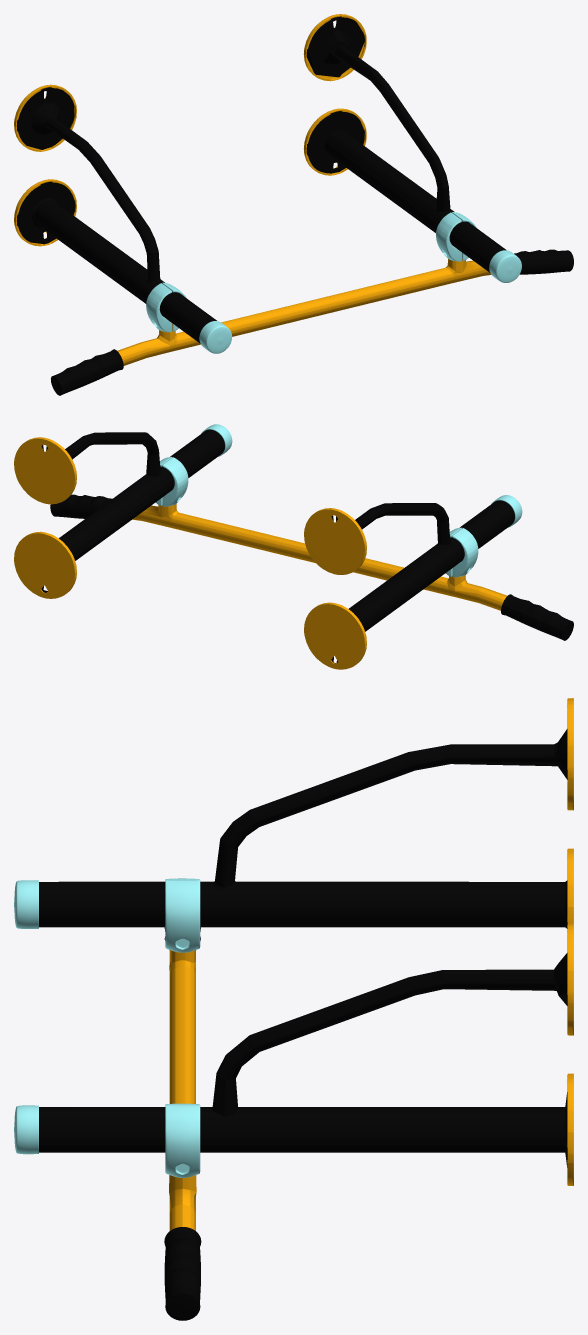
Rendered from barraMulti.obj.
The picture shows the model from 3 angles, top to bottom: view 1: azimuth 30°, elevation 25°; view 2: azimuth 150°, elevation 25°; view 3: azimuth 270°, elevation 25°; orthographic projection. The views are drawn at different scales.
Visible parts, largest first — view 1: HorizontalBar1:dominadas HorizontalBar1:bracket_left, HorizontalBar1:bracket_left001 HorizontalBar1:dominadas, HorizontalBar1:dominadas HorizontalBar1:crossbar, HorizontalBar1:dominadas HorizontalBar1:grip_left, HorizontalBar1:dominadas HorizontalBar1:grip_right, HorizontalBar1:dominadas HorizontalBar1:clamp_001, HorizontalBar1:dominadas HorizontalBar1:clamp_002, HorizontalBar1:dominadas HorizontalBar1:cap_002, HorizontalBar1:dominadas HorizontalBar1:lid_left, HorizontalBar1:dominadas HorizontalBar1:pad_004, HorizontalBar1:dominadas HorizontalBar1:pad_002, HorizontalBar1:dominadas HorizontalBar1:pad_003 (+1 smaller); view 2: HorizontalBar1:dominadas HorizontalBar1:bracket_left, HorizontalBar1:bracket_left001 HorizontalBar1:dominadas, HorizontalBar1:dominadas HorizontalBar1:crossbar, HorizontalBar1:dominadas HorizontalBar1:pad_001, HorizontalBar1:dominadas HorizontalBar1:pad_004, HorizontalBar1:dominadas HorizontalBar1:pad_003, HorizontalBar1:dominadas HorizontalBar1:pad_002, HorizontalBar1:dominadas HorizontalBar1:grip_left, HorizontalBar1:dominadas HorizontalBar1:grip_right, HorizontalBar1:dominadas HorizontalBar1:clamp_001, HorizontalBar1:dominadas HorizontalBar1:clamp_002; view 3: HorizontalBar1:dominadas HorizontalBar1:bracket_left, HorizontalBar1:bracket_left001 HorizontalBar1:dominadas, HorizontalBar1:dominadas HorizontalBar1:crossbar, HorizontalBar1:dominadas HorizontalBar1:grip_right, HorizontalBar1:dominadas HorizontalBar1:clamp_001, HorizontalBar1:dominadas HorizontalBar1:clamp_002, HorizontalBar1:dominadas HorizontalBar1:cap_002, HorizontalBar1:dominadas HorizontalBar1:lid_left, HorizontalBar1:dominadas HorizontalBar1:pad_003, HorizontalBar1:dominadas HorizontalBar1:pad_002, HorizontalBar1:dominadas HorizontalBar1:pad_004.
Part boxes in pixels (left/top/right/bottom): HorizontalBar1:dominadas HorizontalBar1:bracket_left: left=16, top=87, right=216, bottom=343; HorizontalBar1:bracket_left001 HorizontalBar1:dominadas: left=306, top=16, right=506, bottom=272; HorizontalBar1:dominadas HorizontalBar1:crossbar: left=117, top=259, right=491, bottom=365; HorizontalBar1:dominadas HorizontalBar1:grip_left: left=51, top=349, right=123, bottom=395; HorizontalBar1:dominadas HorizontalBar1:grip_right: left=514, top=249, right=573, bottom=274; HorizontalBar1:dominadas HorizontalBar1:clamp_001: left=146, top=282, right=186, bottom=332; HorizontalBar1:dominadas HorizontalBar1:clamp_002: left=436, top=212, right=476, bottom=261; HorizontalBar1:dominadas HorizontalBar1:cap_002: left=489, top=250, right=521, bottom=282; HorizontalBar1:dominadas HorizontalBar1:lid_left: left=199, top=321, right=232, bottom=353; HorizontalBar1:dominadas HorizontalBar1:pad_004: left=303, top=14, right=366, bottom=81; HorizontalBar1:dominadas HorizontalBar1:pad_002: left=14, top=84, right=76, bottom=151; HorizontalBar1:dominadas HorizontalBar1:pad_003: left=303, top=108, right=366, bottom=175; HorizontalBar1:dominadas HorizontalBar1:bracket_left: left=331, top=500, right=514, bottom=663; HorizontalBar1:bracket_left001 HorizontalBar1:dominadas: left=41, top=429, right=224, bottom=592; HorizontalBar1:dominadas HorizontalBar1:crossbar: left=132, top=504, right=507, bottom=610; HorizontalBar1:dominadas HorizontalBar1:pad_001: left=304, top=602, right=366, bottom=669; HorizontalBar1:dominadas HorizontalBar1:pad_004: left=14, top=437, right=76, bottom=504; HorizontalBar1:dominadas HorizontalBar1:pad_003: left=14, top=531, right=76, bottom=598; HorizontalBar1:dominadas HorizontalBar1:pad_002: left=304, top=508, right=366, bottom=574; HorizontalBar1:dominadas HorizontalBar1:grip_left: left=501, top=594, right=573, bottom=640; HorizontalBar1:dominadas HorizontalBar1:grip_right: left=50, top=494, right=112, bottom=518; HorizontalBar1:dominadas HorizontalBar1:clamp_001: left=445, top=527, right=478, bottom=577; HorizontalBar1:dominadas HorizontalBar1:clamp_002: left=156, top=456, right=188, bottom=506; HorizontalBar1:dominadas HorizontalBar1:bracket_left: left=39, top=729, right=567, bottom=928; HorizontalBar1:bracket_left001 HorizontalBar1:dominadas: left=39, top=953, right=567, bottom=1167; HorizontalBar1:dominadas HorizontalBar1:crossbar: left=169, top=950, right=196, bottom=1230; HorizontalBar1:dominadas HorizontalBar1:grip_right: left=164, top=1227, right=201, bottom=1320; HorizontalBar1:dominadas HorizontalBar1:clamp_001: left=165, top=878, right=200, bottom=952; HorizontalBar1:dominadas HorizontalBar1:clamp_002: left=165, top=1103, right=200, bottom=1177; HorizontalBar1:dominadas HorizontalBar1:cap_002: left=14, top=1105, right=38, bottom=1154; HorizontalBar1:dominadas HorizontalBar1:lid_left: left=14, top=880, right=38, bottom=928; HorizontalBar1:dominadas HorizontalBar1:pad_003: left=567, top=1073, right=573, bottom=1185; HorizontalBar1:dominadas HorizontalBar1:pad_002: left=567, top=698, right=573, bottom=810; HorizontalBar1:dominadas HorizontalBar1:pad_004: left=567, top=923, right=573, bottom=1035.
Size of the model in its own units: 8.04 by 2.88 by 4.75.
